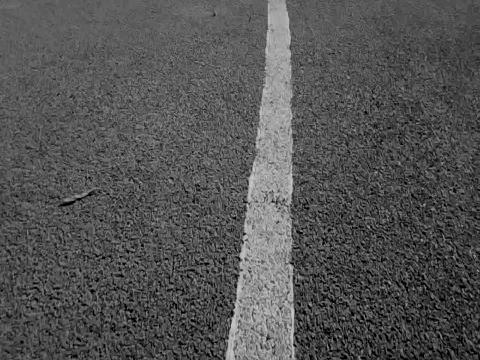Lines: (226, 0, 296, 360)
